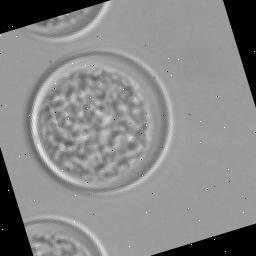picoshell: (28, 47, 173, 193), (18, 0, 111, 41), (24, 216, 108, 256)
